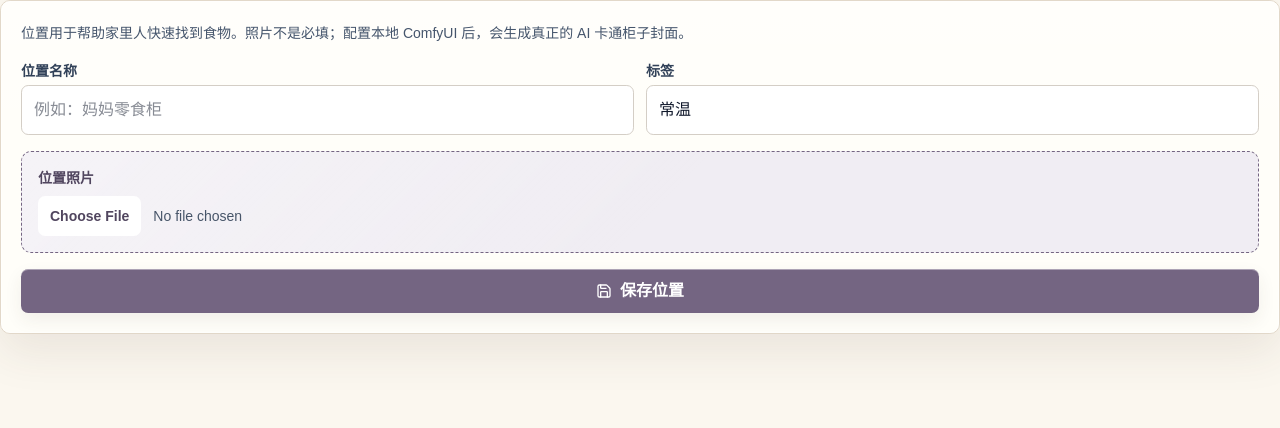
it: CreateLocationForm › saves a named household location with tags
This screenshot has width=1280, height=428.
Step 1. Type "妈妈零食柜" into the field labelled "位置名称" → {"x": 328, "y": 110}, box [21,85,634,135]
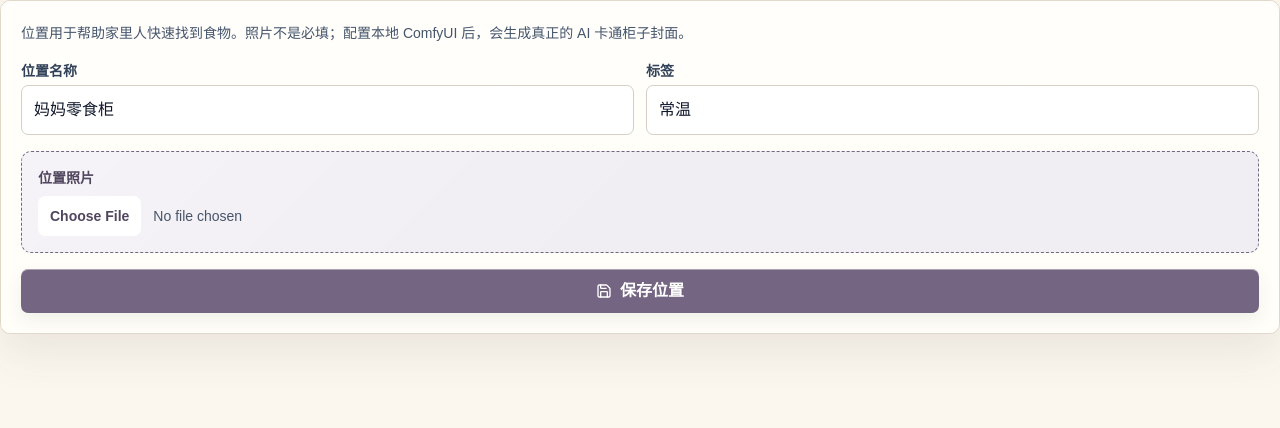
Step 2. Replace the text in the field labelled "标签" with "常温 零食" → {"x": 952, "y": 110}, box [646,85,1259,135]
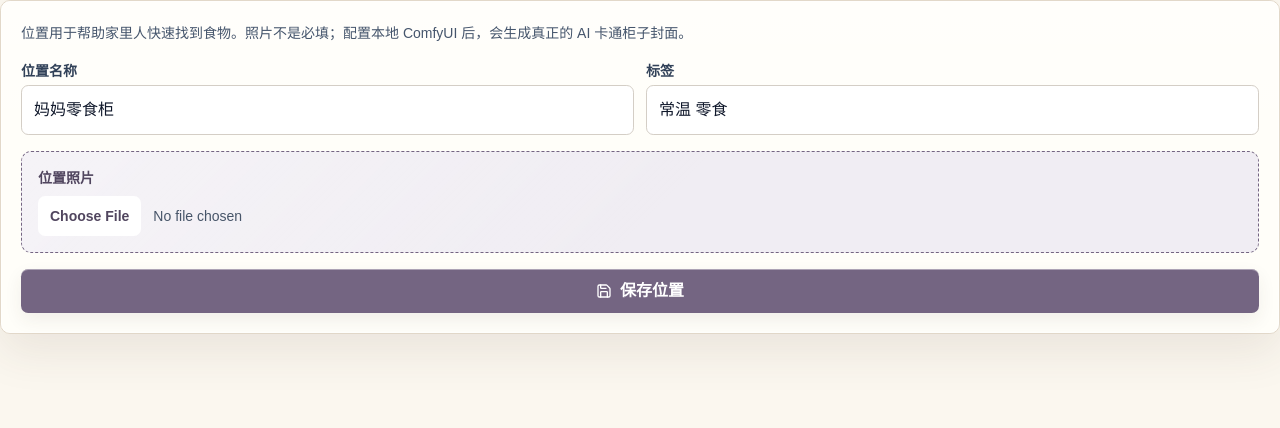
Step 3. Click the button "保存位置" → {"x": 640, "y": 291}, box [21,269,1259,313]
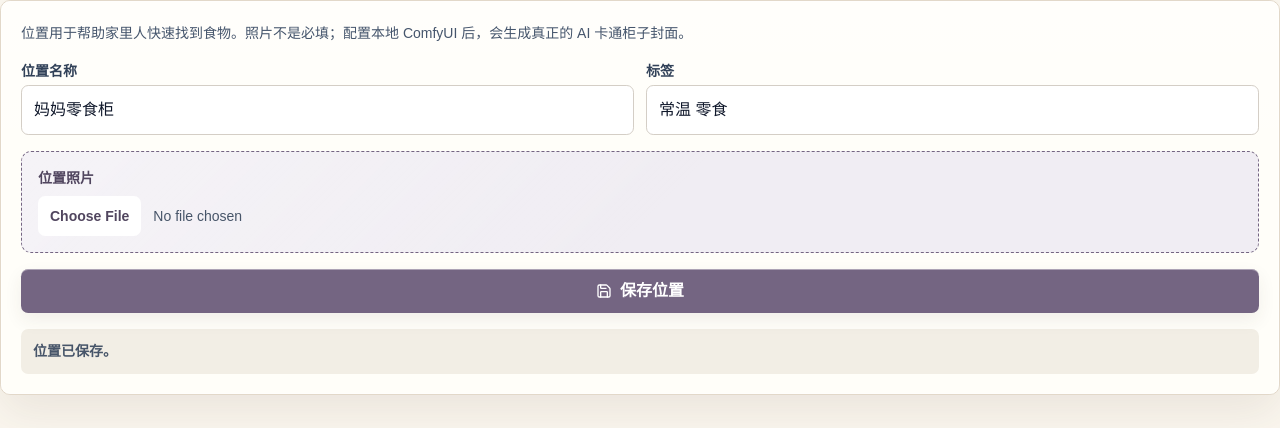
Result: the text "位置已保存。" is shown at [21,329,1259,374]
